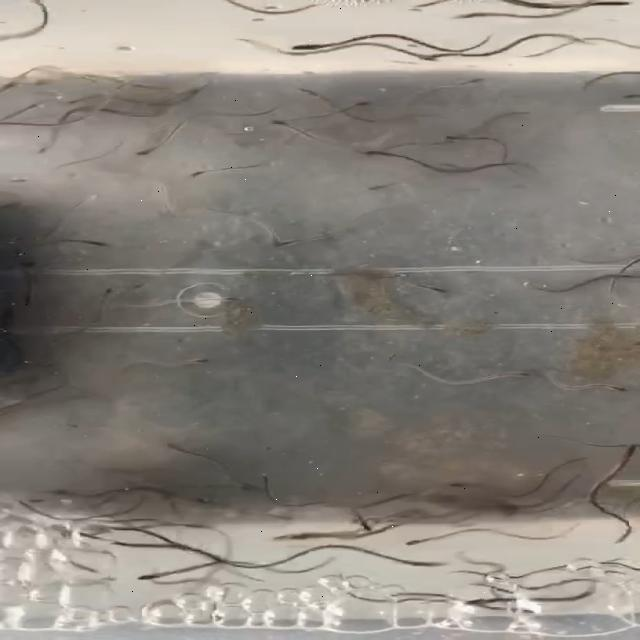active_glass_eel: (65, 234, 146, 264), (124, 142, 186, 166), (409, 276, 461, 304), (284, 31, 344, 54), (444, 72, 504, 94), (492, 600, 550, 622), (331, 520, 390, 540), (455, 592, 507, 614), (171, 165, 217, 189), (423, 130, 482, 148), (171, 352, 219, 374), (251, 230, 303, 250), (180, 491, 232, 511), (127, 564, 173, 586), (592, 376, 634, 400), (494, 364, 544, 384), (404, 554, 454, 574), (148, 437, 193, 459), (388, 532, 432, 554), (260, 528, 308, 548), (255, 114, 293, 138), (27, 136, 62, 162), (457, 4, 502, 24), (202, 290, 252, 308), (328, 95, 374, 114), (360, 176, 398, 198), (606, 442, 640, 466), (120, 274, 160, 294), (276, 85, 323, 102), (13, 492, 48, 514), (90, 282, 128, 302), (172, 84, 214, 102), (352, 144, 397, 160), (40, 486, 86, 501), (415, 50, 455, 66), (439, 479, 479, 495), (8, 292, 42, 310), (601, 268, 640, 282)
